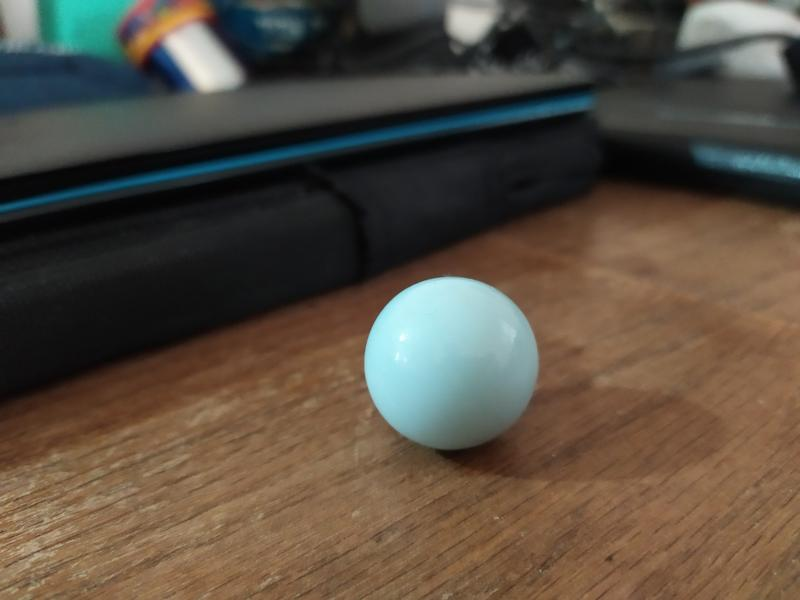Warning: (360, 271, 546, 455)
